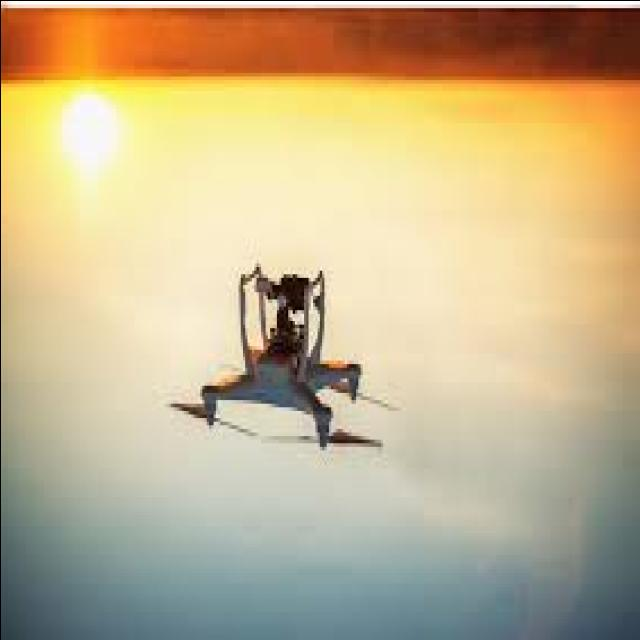drone: (172, 252, 402, 468)
